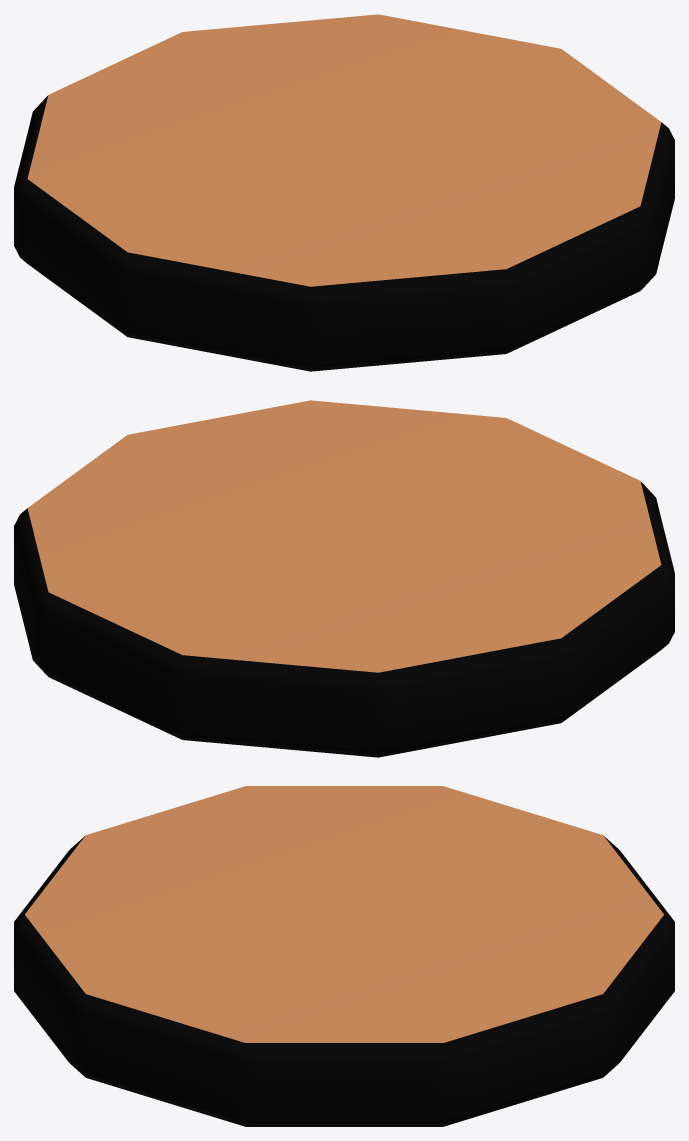
3 views of the same model, one above another, from view 1: azimuth 30°, elevation 25°; view 2: azimuth 150°, elevation 25°; view 3: azimuth 270°, elevation 25° (orthographic).
Visible parts, largest first — view 1: D2; view 2: D2; view 3: D2.
Part boxes in pixels (x1=…): D2: x1=14, y1=14, x2=674, y2=371; D2: x1=14, y1=400, x2=674, y2=757; D2: x1=14, y1=786, x2=674, y2=1126.
Size of the model in its own units: 110 by 16 by 114.
